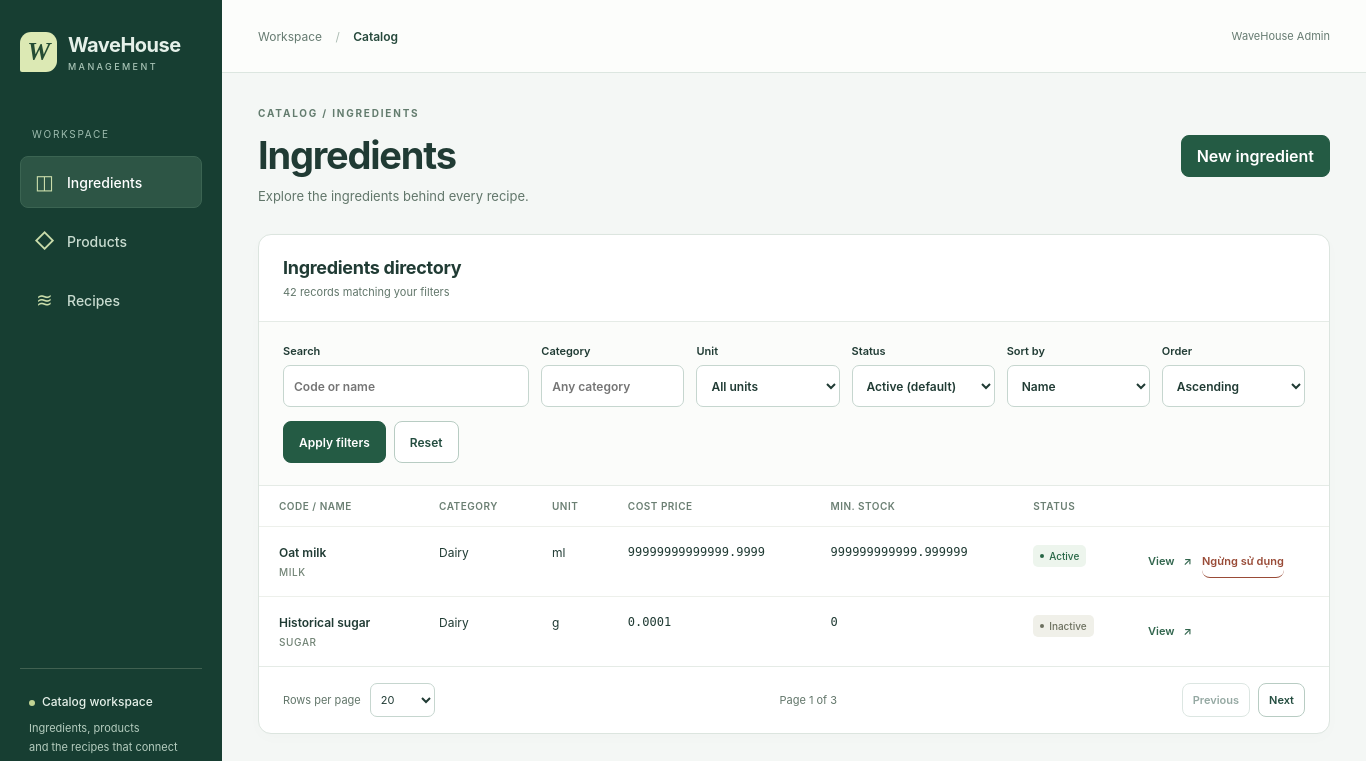
Test: catalog navigation and records › renders product list and details with S/M/L prices and optional-field placeholders
Step 1. Click the button "◇ Products" → (111, 241), box [20, 215, 202, 267]
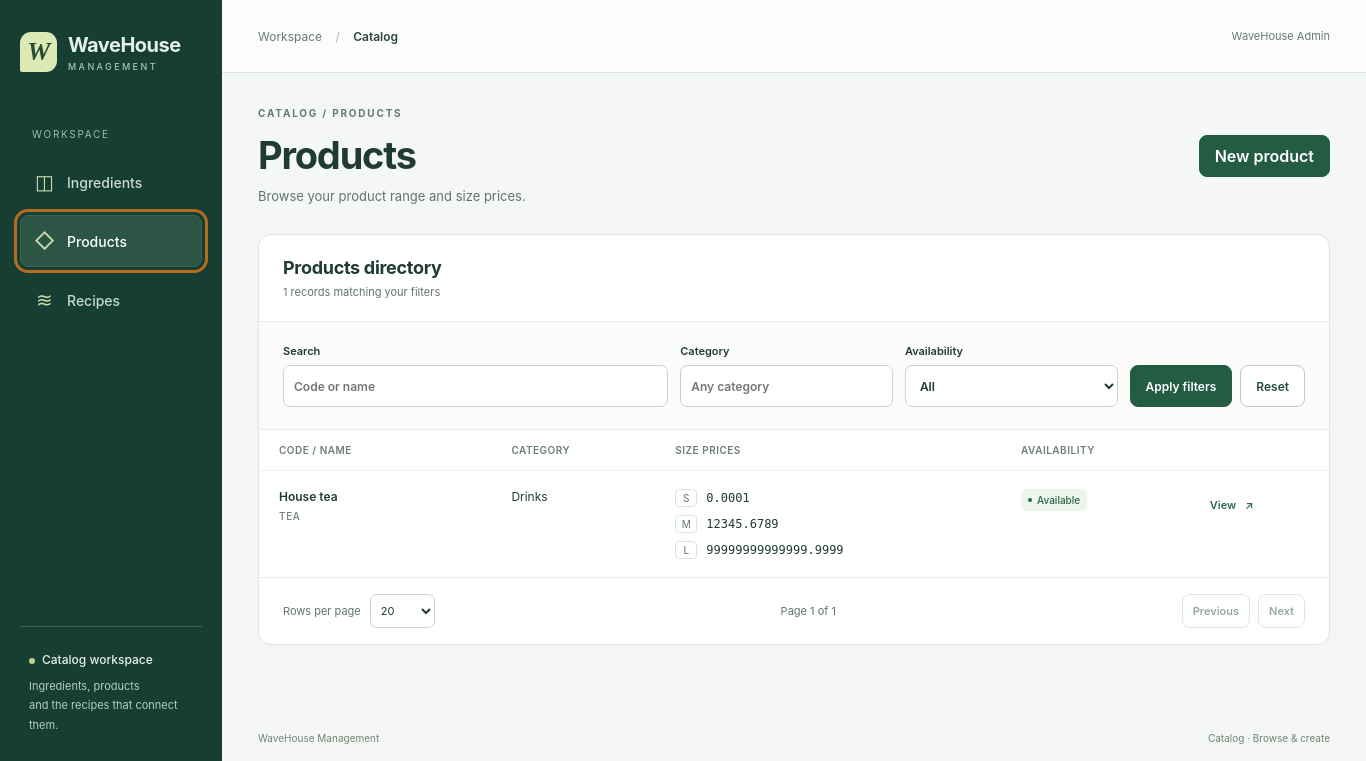
Expected: the table named "Products catalog" is shown, [259, 430, 1329, 577]
Result: the text "Drinks" is shown at [491, 471, 655, 577]
Result: the text "Available" is shown at [1021, 489, 1087, 511]
Step 2. Click the button with aria-label "View House tea" → (1232, 505), box [1210, 489, 1254, 521]
(page scrolled)
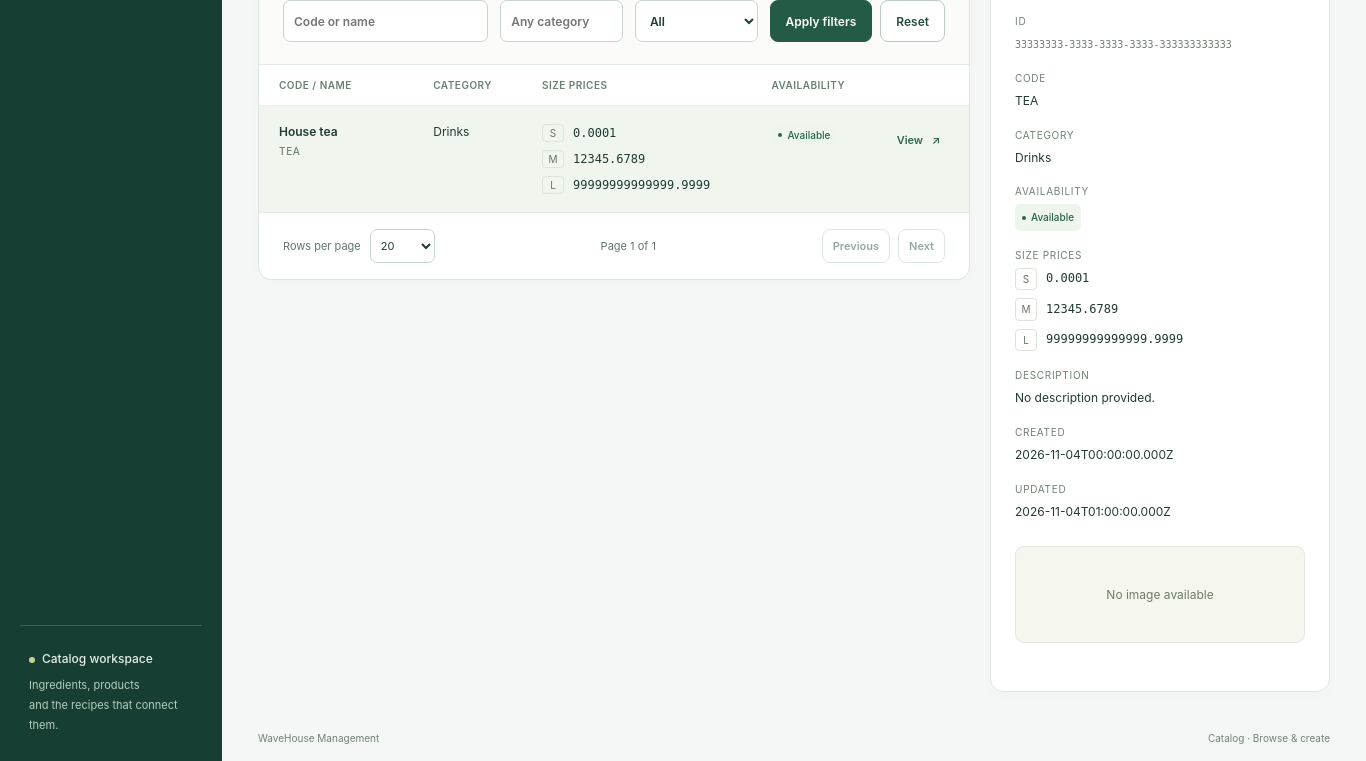
Result: the text "No description provided." is shown at [1015, 390, 1155, 405]
Result: the text "No image available" is shown at [1015, 546, 1305, 643]
